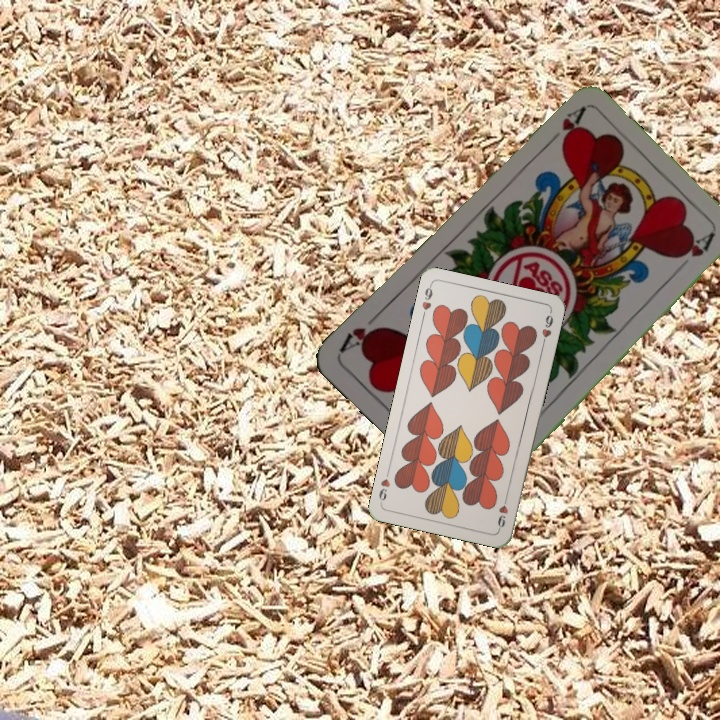H9: (494, 492, 511, 532), (418, 281, 435, 321)
HA: (540, 104, 588, 151)
